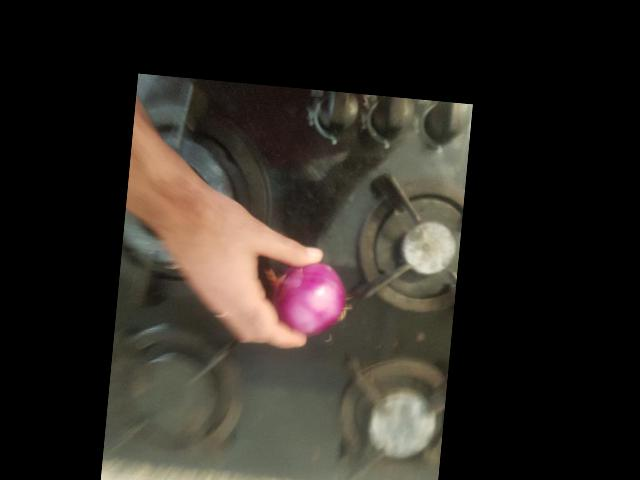onion: (309, 361, 376, 433)
